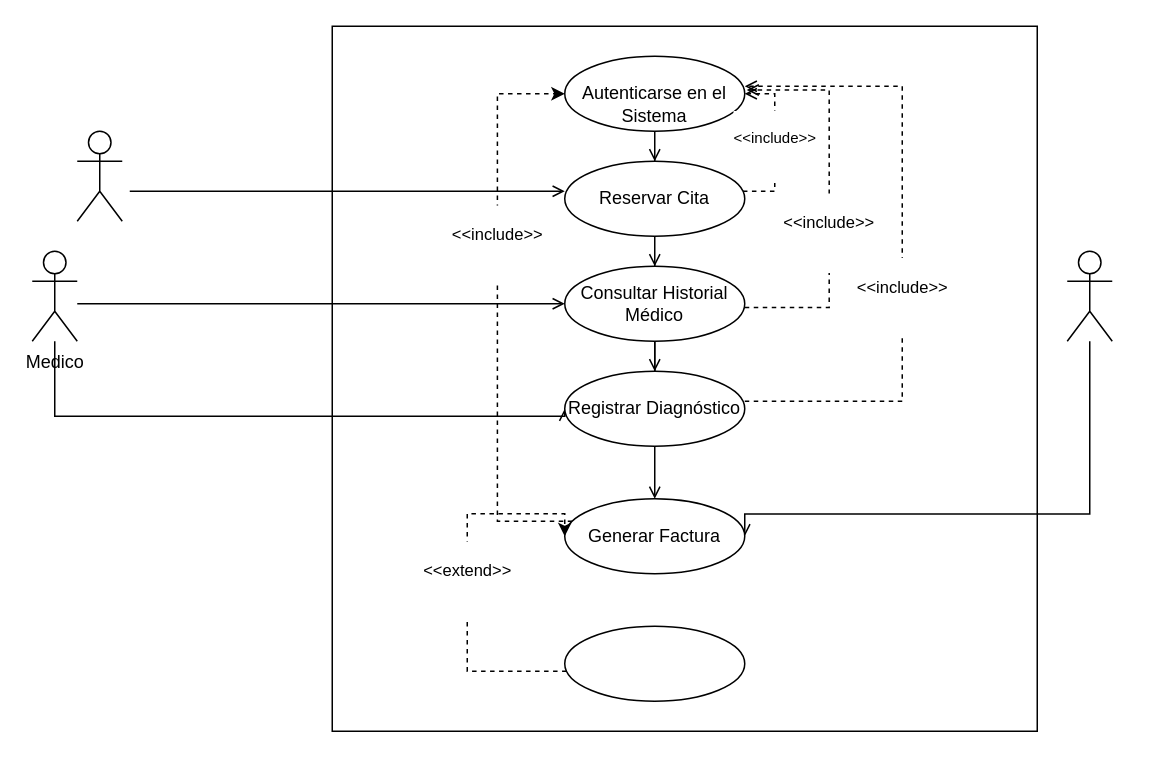
Image size: 1169x758. Some labels were removed from this diagram. The shapes that lost their labels are listed below. From the top down, each one's centre as x and y in pixels, then its label:
pixel 99 175: Paciente
pixel 1089 295: Administador
pixel 654 663: Aplicar Descuento de Seguro
